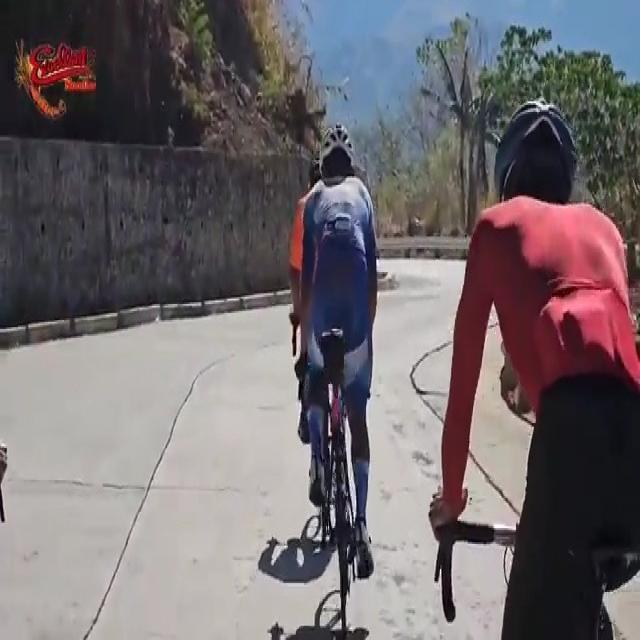bike: (427, 96, 640, 640), (300, 121, 380, 640), (290, 159, 338, 518)
